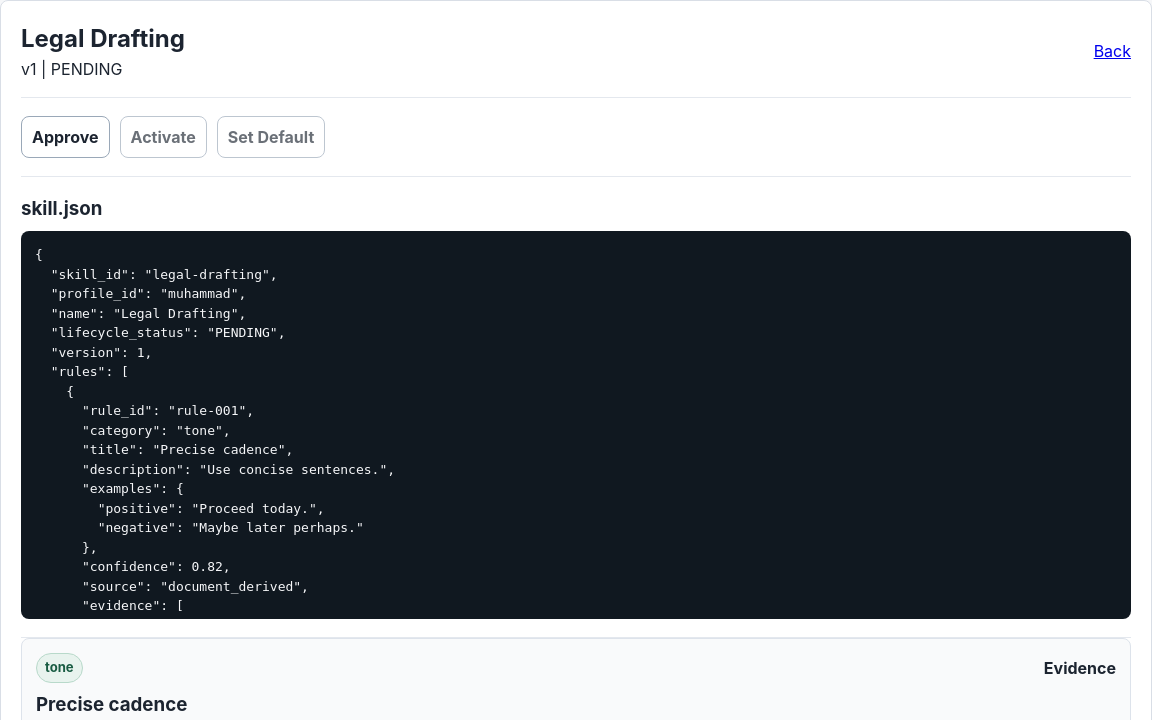
Test: SkillApprovalPage › approves a pending skill
expect the heading "Precise cadence" is shown: met, box x1=36 y1=693 x2=187 y2=716
What coordinates should you click on to do the following:
click the button "Approve"
I would click on:
 (65, 137)
Its box is x1=21 y1=116 x2=110 y2=158.
(page scrolled)
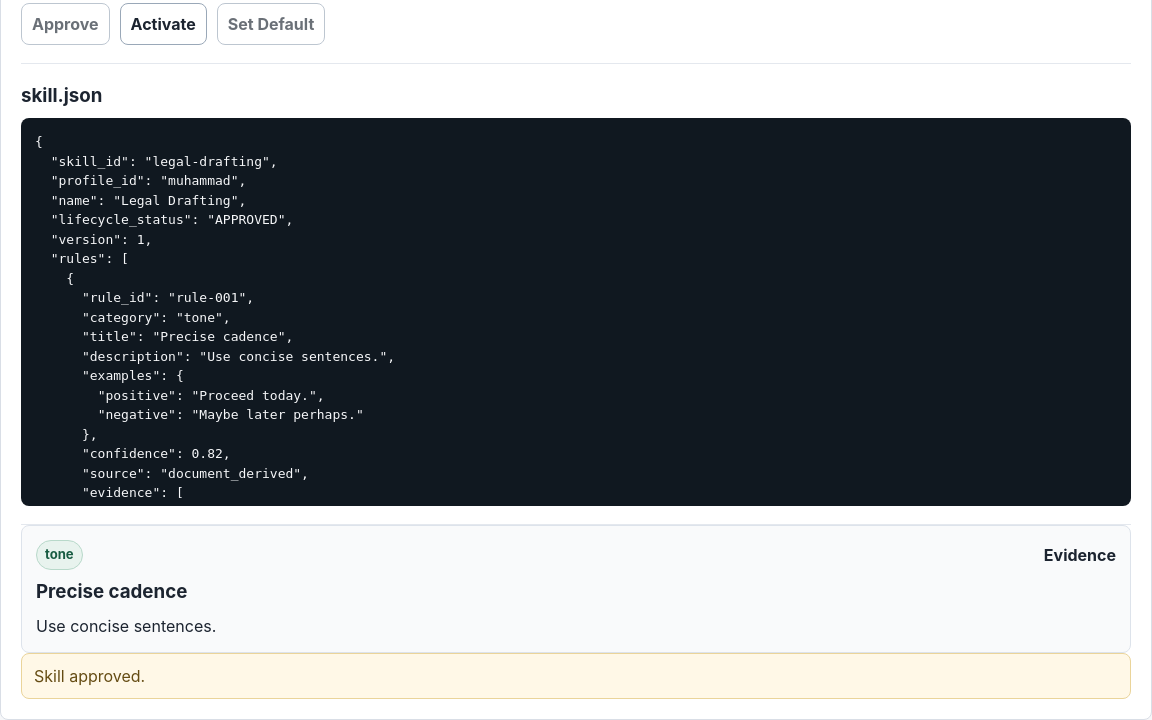
expect the text "Skill approved." is shown: met, box x1=21 y1=653 x2=1131 y2=699
